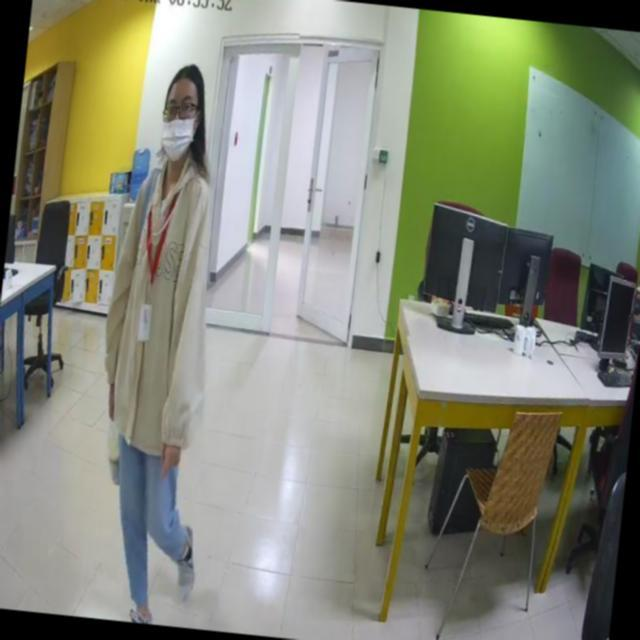person: (87, 60, 236, 626)
